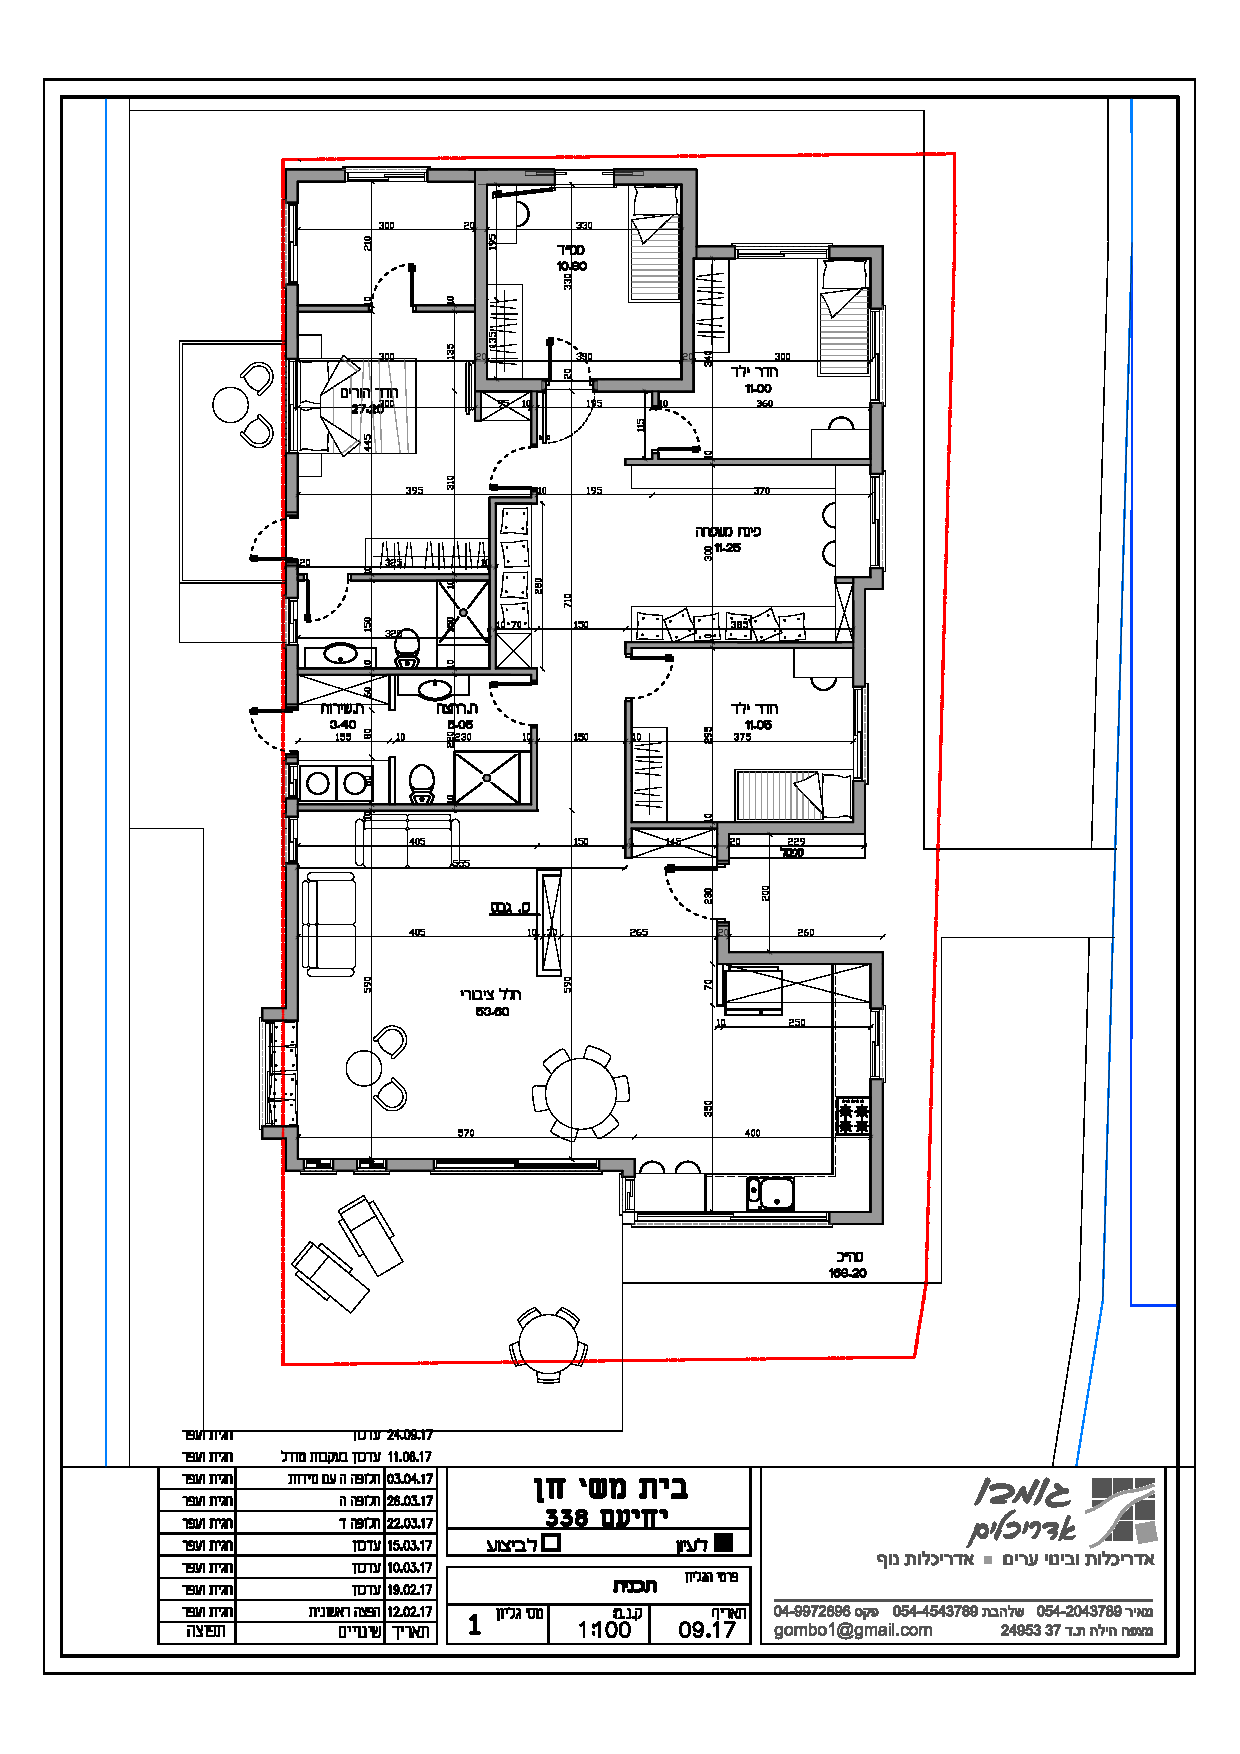door: (478, 443, 531, 493), (234, 513, 280, 569), (637, 651, 683, 709), (238, 698, 278, 756), (659, 408, 705, 458)
wall: (680, 168, 696, 393), (870, 1078, 884, 1223), (476, 187, 486, 396)
